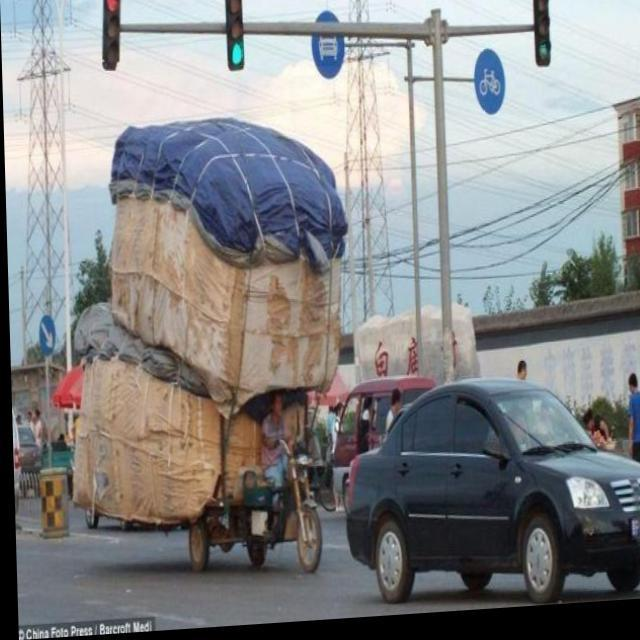covered: (70, 127, 328, 532)
